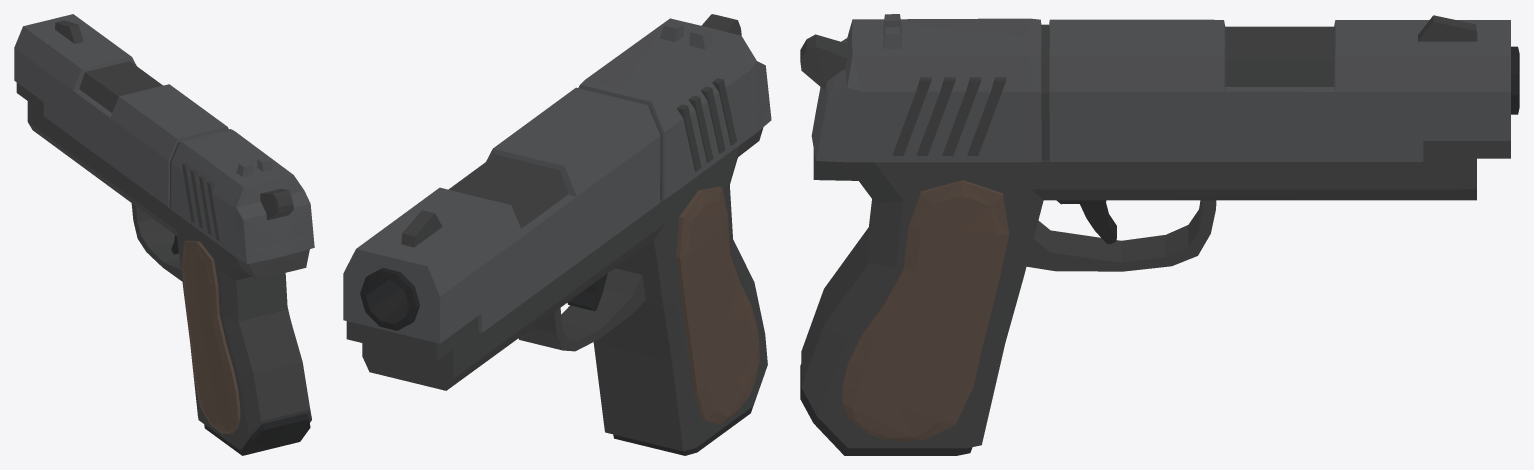
The model's file is pistol-2.glb.
3 renders of one model, left to right at view 1: azimuth 30°, elevation 25°; view 2: azimuth 150°, elevation 25°; view 3: azimuth 270°, elevation 25°, orthographic. The views are drawn at different scales.
Visible parts, largest first — view 1: Pistol_2; view 2: Pistol_2; view 3: Pistol_2.
Boxes of the visible parts, x1,y1,x2,y2 form: Pistol_2: (14,14,314,455); Pistol_2: (343,14,771,455); Pistol_2: (800,14,1519,455).
Bounding box in the file's own units: 0.0391 × 0.1405 × 0.22.
